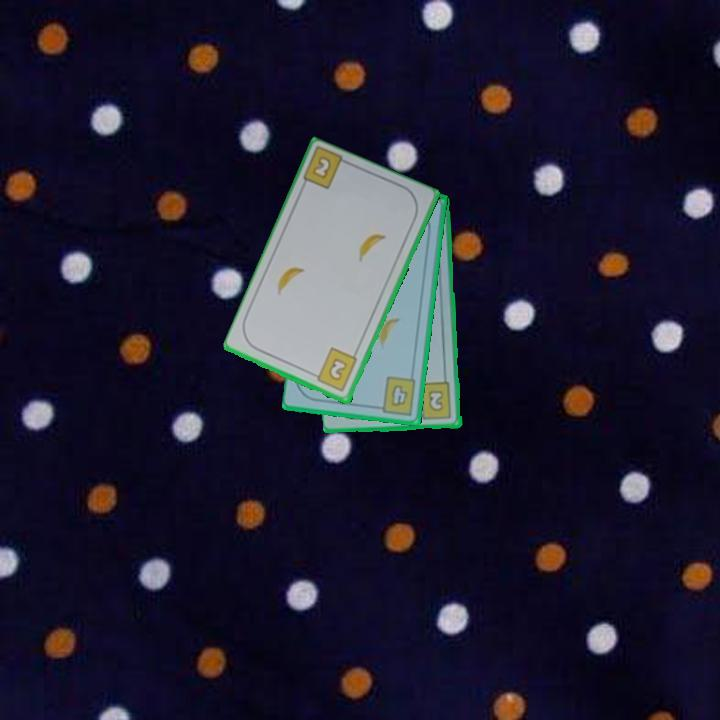2b: (309, 345, 360, 395), (413, 379, 454, 423), (309, 153, 334, 182)
4b: (373, 373, 419, 418)
